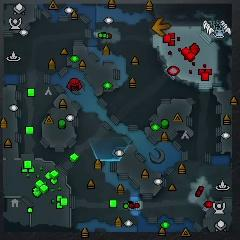x5: (152, 17, 171, 37)
